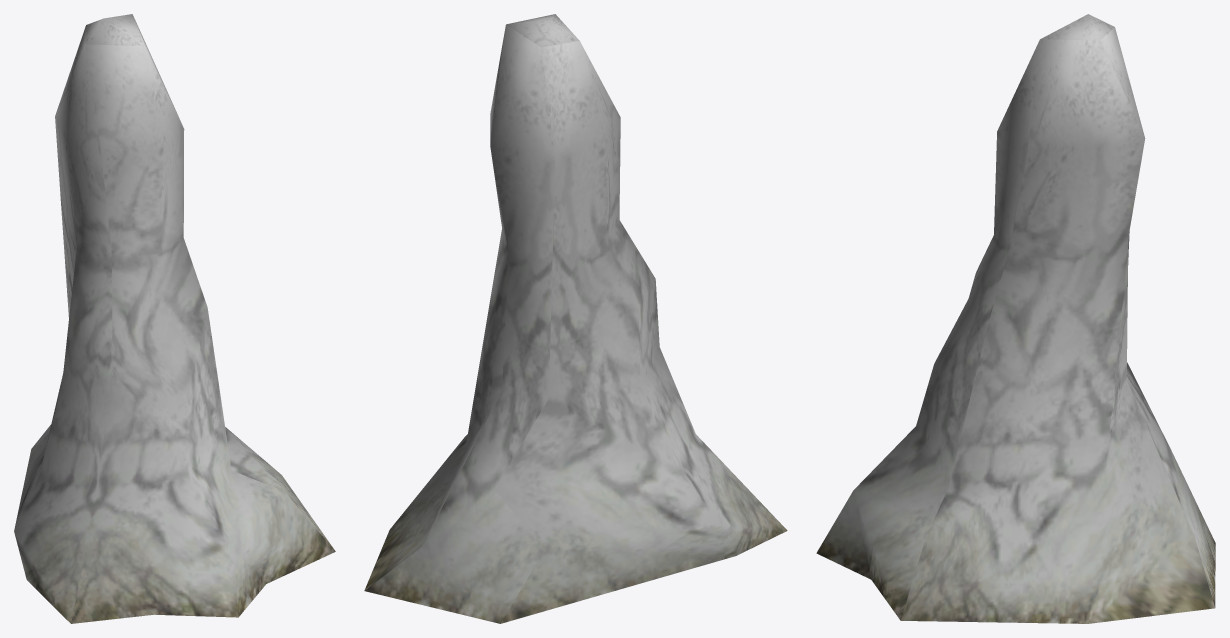
The model's file is general_obj_bigstone01_lod_01.fbx.
The picture shows the model from 3 angles, left to right: view 1: azimuth 30°, elevation 25°; view 2: azimuth 150°, elevation 25°; view 3: azimuth 270°, elevation 25°; orthographic projection. The views are drawn at different scales.
Visible parts, largest first — view 1: Sphere01; view 2: Sphere01; view 3: Sphere01.
Part boxes in pixels (x1,y1,x2,y2): Sphere01: [14, 14, 335, 623]; Sphere01: [364, 14, 787, 623]; Sphere01: [816, 14, 1215, 623].
Bounding box in the file's own units: 19.08 × 33.9 × 22.83.
